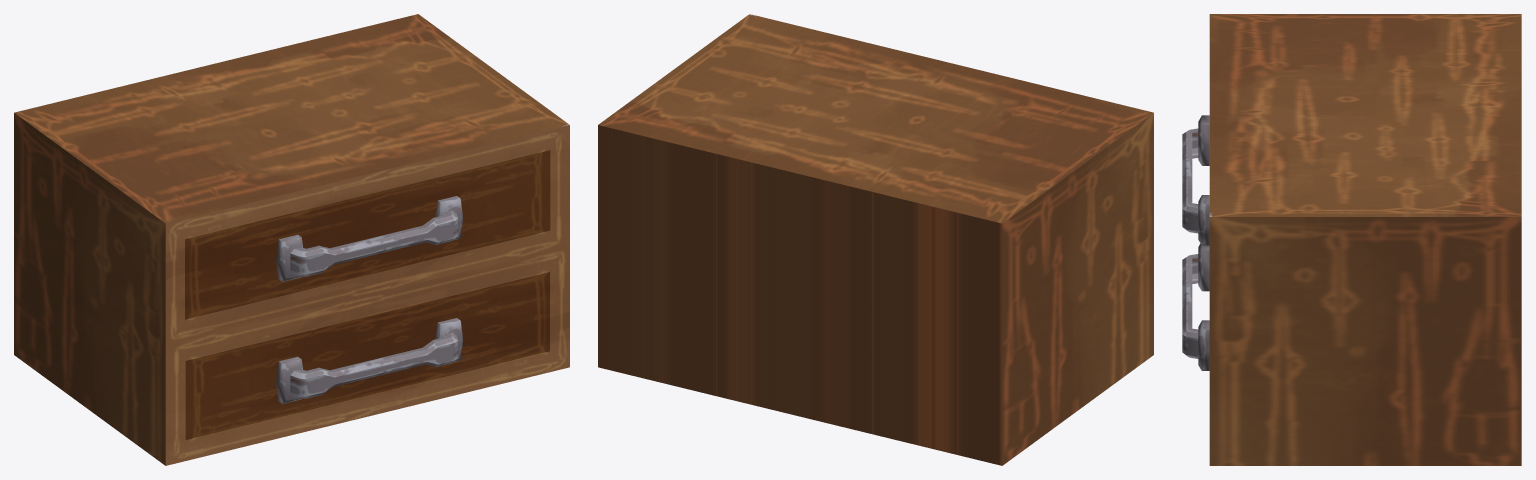
File: Workbench_Drawers.gltf
The picture shows the model from 3 angles, left to right: view 1: azimuth 30°, elevation 25°; view 2: azimuth 150°, elevation 25°; view 3: azimuth 270°, elevation 25°; orthographic projection. The views are drawn at different scales.
Parts seen in each view (by area): view 1: Workbench_Drawers; view 2: Workbench_Drawers; view 3: Workbench_Drawers.
Boxes of the visible parts, x1,y1,x2,y2 form: Workbench_Drawers: (14, 14, 569, 465); Workbench_Drawers: (598, 14, 1153, 465); Workbench_Drawers: (1182, 14, 1521, 465).
Bounding box in the file's own units: 0.4231 × 0.2424 × 0.299.
2 materials, 2 textured.
